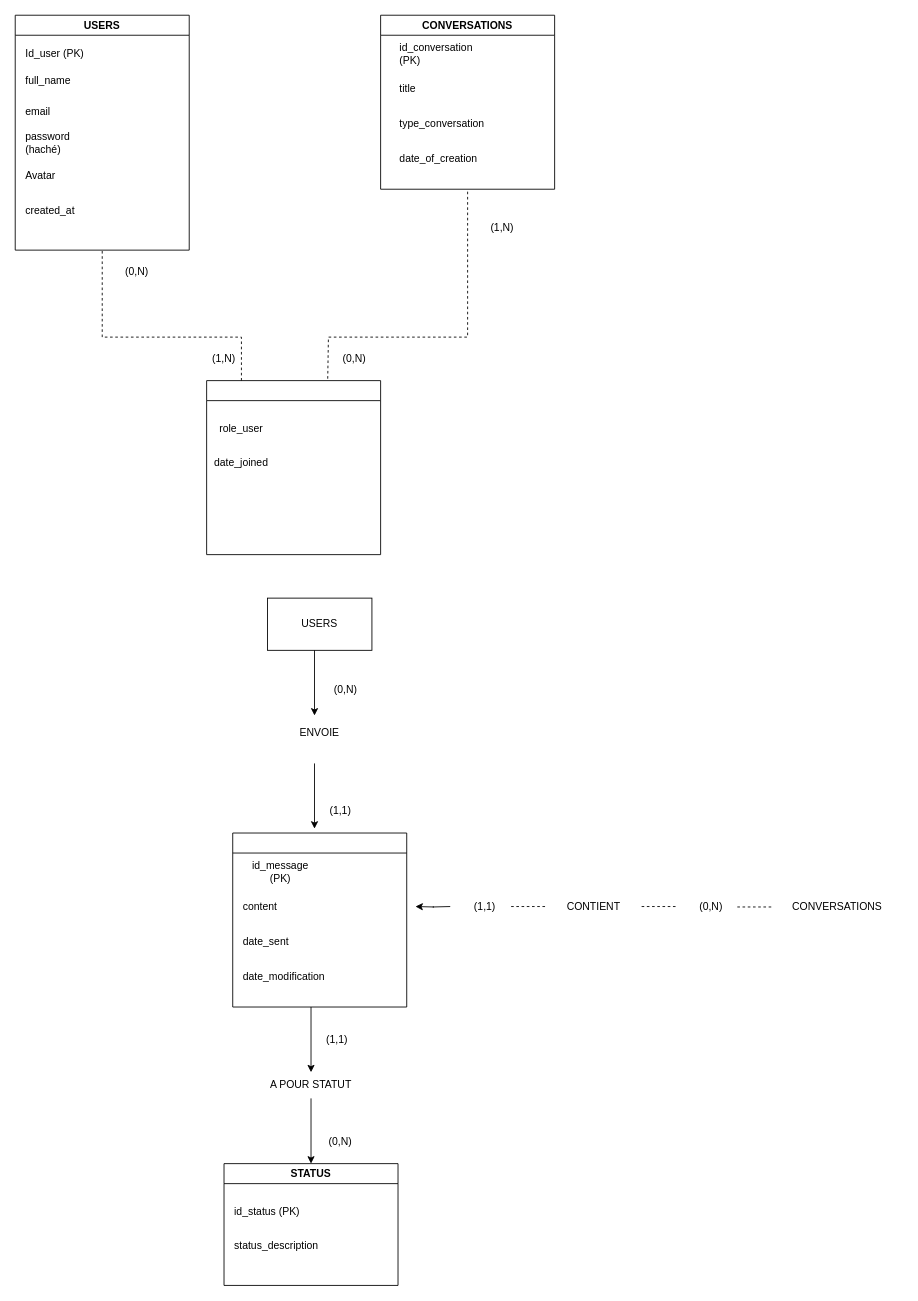
The diagram is 918 pixels wide and 1301 high, and some of its shapes have lost their labels. Here are the shapes that lost their labels. From the top down, the box of each, then its label:
(206, 380, 381, 555): TO PARTICIPATE IN
(232, 832, 407, 1007): MESSAGES
